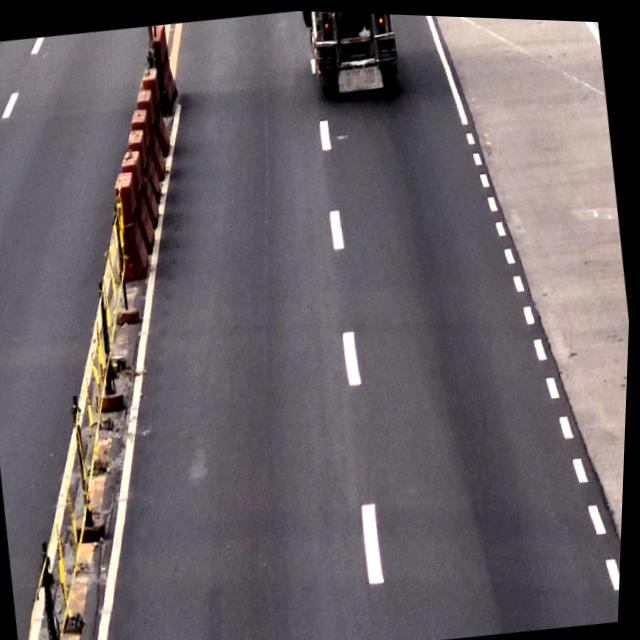Jeep: (307, 9, 400, 100)
